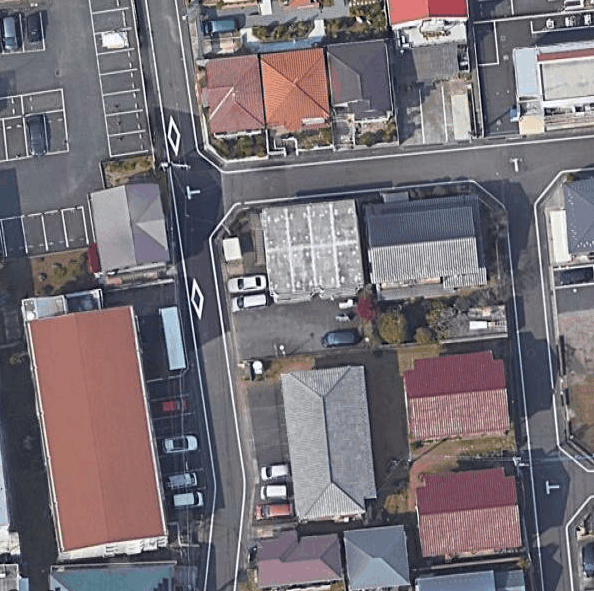parkinglot: (0, 4, 135, 248)
